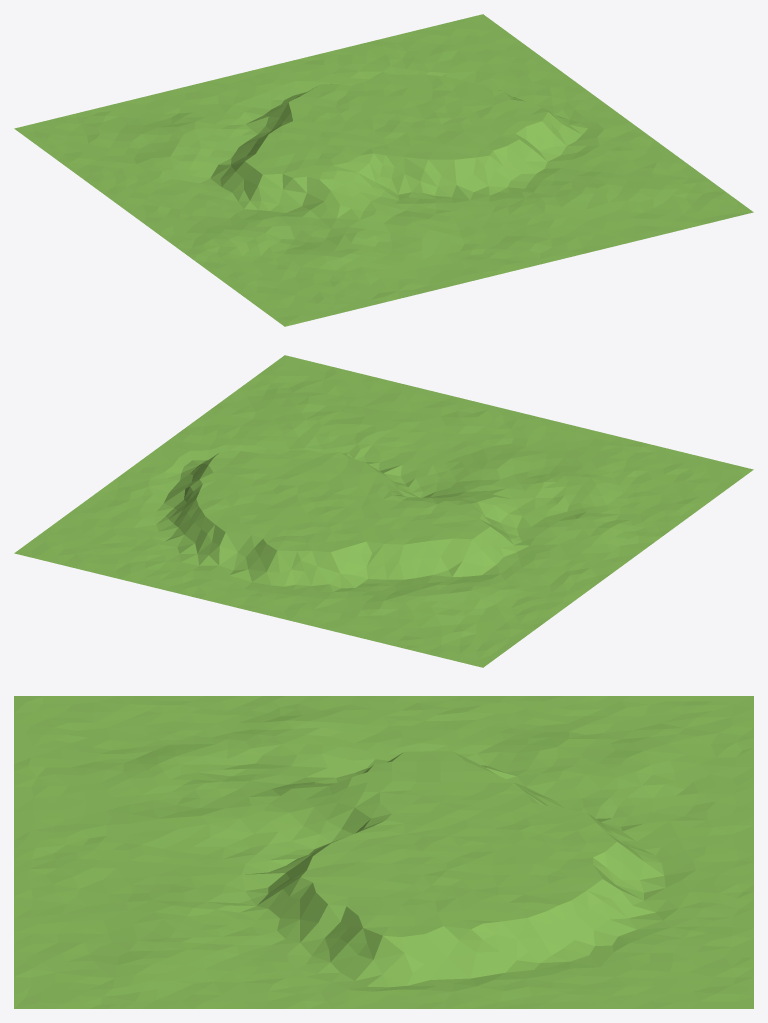
Rendered from MT_Terrain_L_d_04_LOD.fbx.
The picture shows the model from 3 angles, top to bottom: view 1: azimuth 30°, elevation 25°; view 2: azimuth 150°, elevation 25°; view 3: azimuth 270°, elevation 25°; orthographic projection. The views are drawn at different scales.
Visible parts, largest first — view 1: MT_Terrain_L_d_04_LOD0; view 2: MT_Terrain_L_d_04_LOD0; view 3: MT_Terrain_L_d_04_LOD0.
Boxes of the visible parts, bbox=[...] form: MT_Terrain_L_d_04_LOD0: bbox=[14, 14, 753, 326]; MT_Terrain_L_d_04_LOD0: bbox=[14, 355, 753, 667]; MT_Terrain_L_d_04_LOD0: bbox=[14, 696, 753, 1008].
Size of what is drawn, in the model's own units: 10000 by 451 by 10000.
